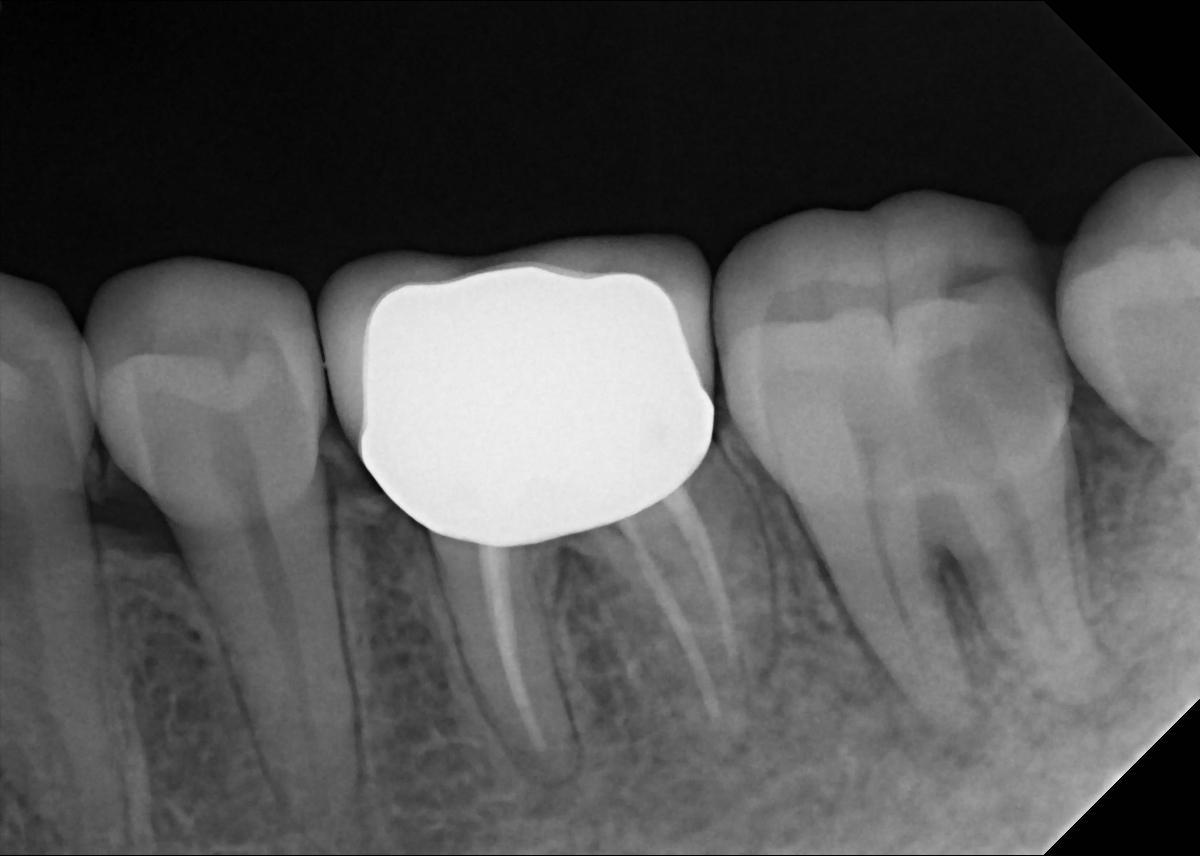Dental Caries: (780, 495, 1002, 774), (1030, 648, 1152, 749)
